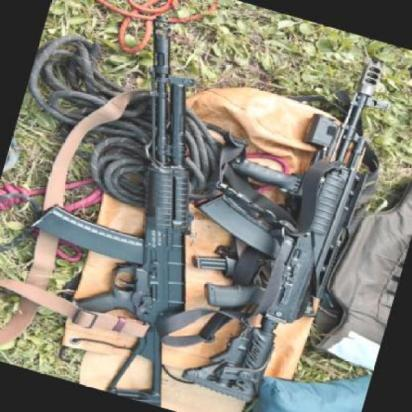Gun: (0, 0, 241, 399), (171, 26, 412, 412)
